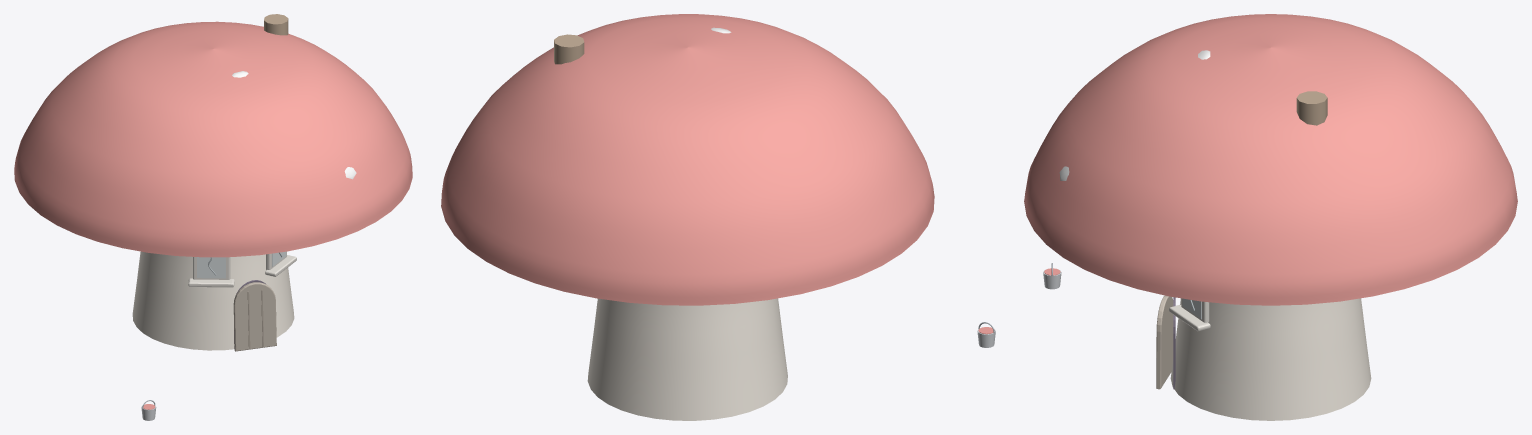
Rendered from building_forest_L04.glb.
The picture shows the model from 3 angles, left to right: view 1: azimuth 30°, elevation 25°; view 2: azimuth 150°, elevation 25°; view 3: azimuth 270°, elevation 25°; orthographic projection. The views are drawn at different scales.
Visible parts, largest first — view 1: Body; view 2: Body; view 3: Body.
Part boxes in pixels (x1,y1,x2,y2): Body: (14, 14, 412, 351); Body: (441, 14, 934, 420); Body: (1024, 14, 1517, 420).
Bounding box in the file's own units: 19.2 × 14.24 × 19.2.
